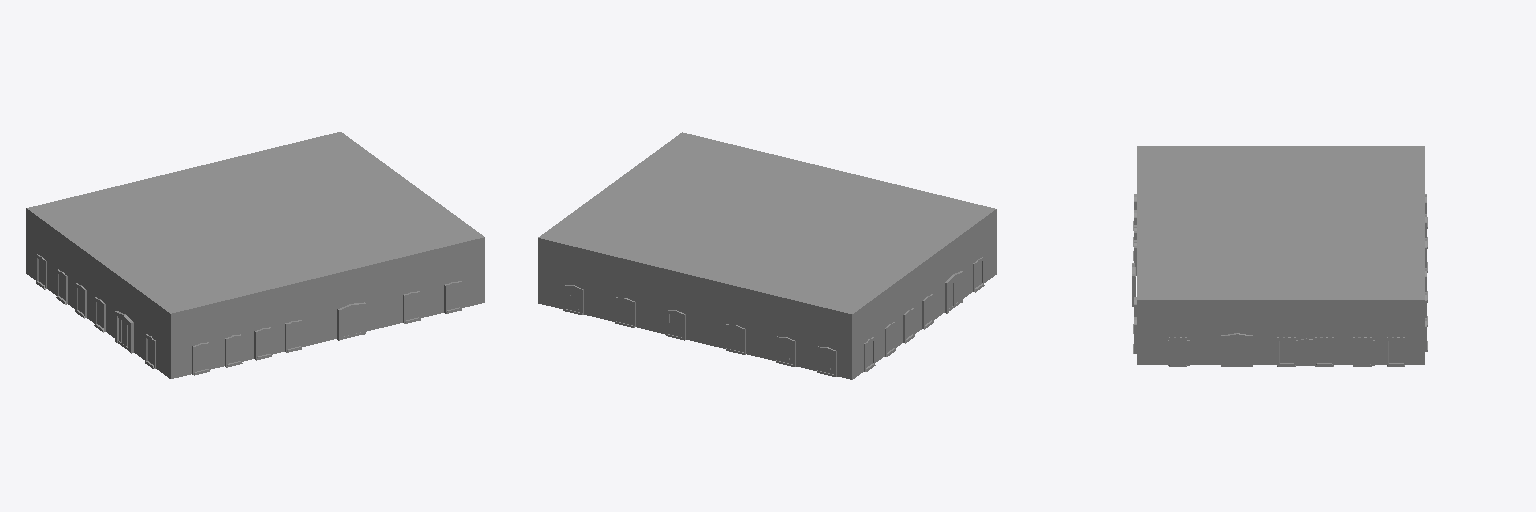
The model's file is edificioF.obj.
3 renders of one model, left to right at view 1: azimuth 30°, elevation 25°; view 2: azimuth 150°, elevation 25°; view 3: azimuth 270°, elevation 25°, orthographic.
Visible parts, largest first — view 1: Cubo.001_Cubo.021, Cubo; view 2: Cubo.001_Cubo.021, Cubo; view 3: Cubo.001_Cubo.021, Cubo.
Part boxes in pixels (x1,y1,x2,y2): Cubo.001_Cubo.021: (26, 132, 484, 378); Cubo: (36, 254, 461, 375); Cubo.001_Cubo.021: (538, 132, 996, 379); Cubo: (864, 257, 984, 371); Cubo.001_Cubo.021: (1137, 146, 1427, 365); Cubo: (1132, 194, 1404, 366).
Bounding box in the file's own units: 15.05 × 2.96 × 12.05.